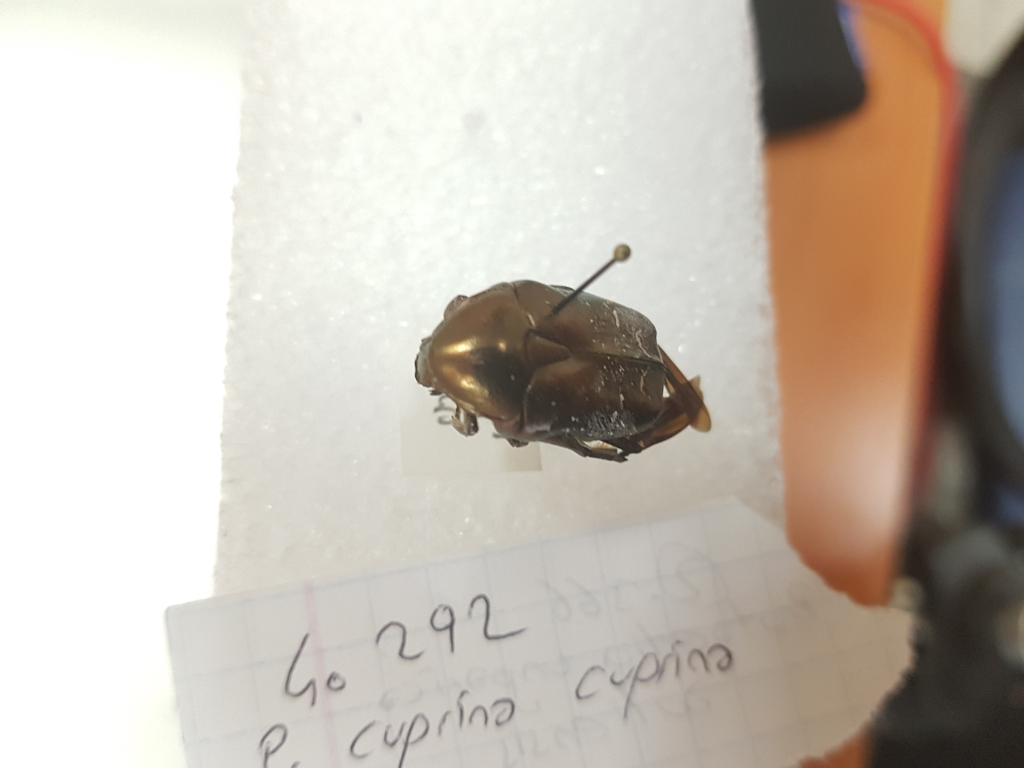Protaetia_cuprina_cuprina: (409, 261, 725, 463)
